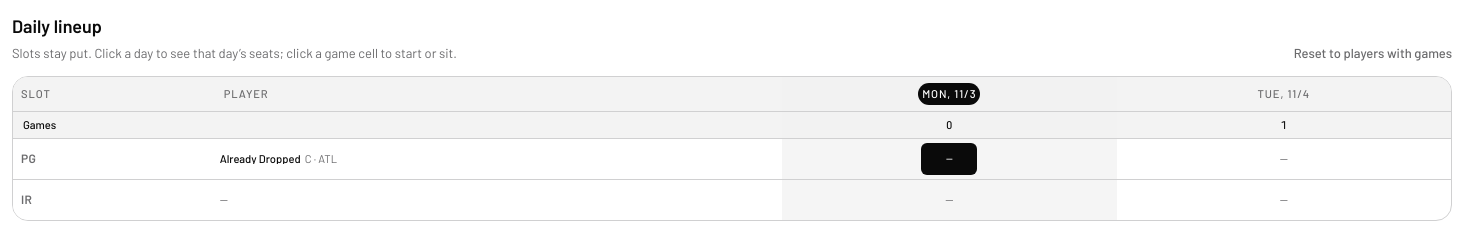
Scenario: DailyLineupPanel B2B badge › hides a cut recorded player on open focus days
The image size is (1464, 238).
Default focus is first day (closed) — cut player may appear there.
What coordinates should you click on to do the following:
click the button "Tue, 11/4"
I would click on:
 (1284, 94)
Its box is [1254,82,1314,104].
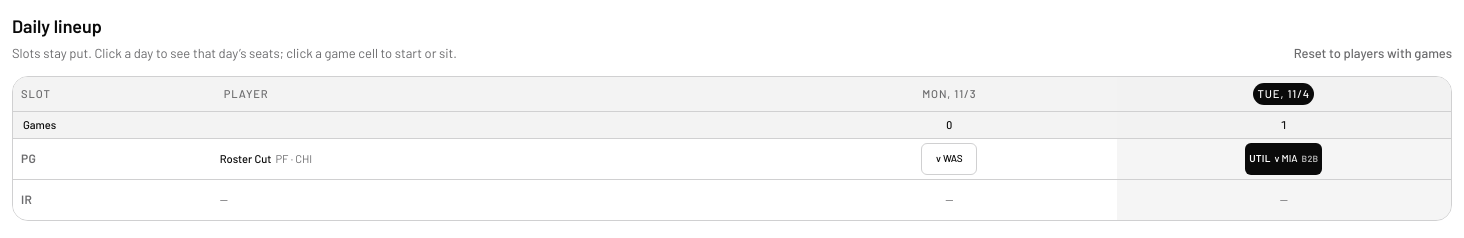
Result: the text "Already Dropped" is gone
